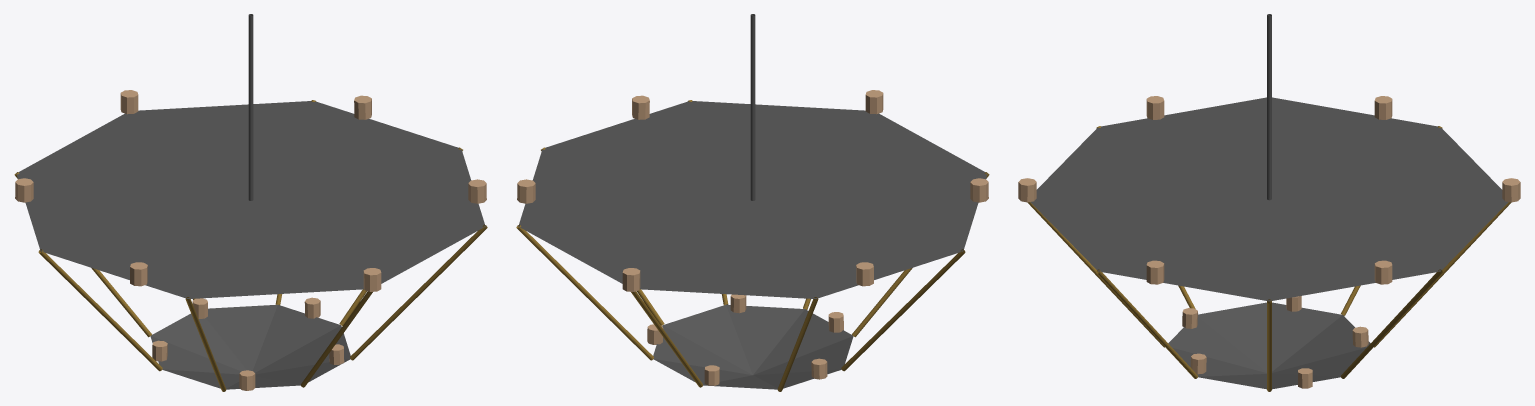
Rendered from chandelier.fbx.
The picture shows the model from 3 angles, left to right: view 1: azimuth 30°, elevation 25°; view 2: azimuth 150°, elevation 25°; view 3: azimuth 270°, elevation 25°; orthographic projection.
Parts seen in each view (by area): view 1: Cylinder.005, Cylinder.002; view 2: Cylinder.005, Cylinder.002; view 3: Cylinder.005, Cylinder.002.
Part boxes in pixels (x1,y1,x2,y2): Cylinder.005: (14, 90, 487, 391); Cylinder.002: (248, 14, 253, 200); Cylinder.005: (516, 90, 989, 391); Cylinder.002: (750, 14, 755, 200); Cylinder.005: (1018, 96, 1520, 391); Cylinder.002: (1267, 14, 1271, 200).
Size of the model in its own units: 202 by 164 by 208.
